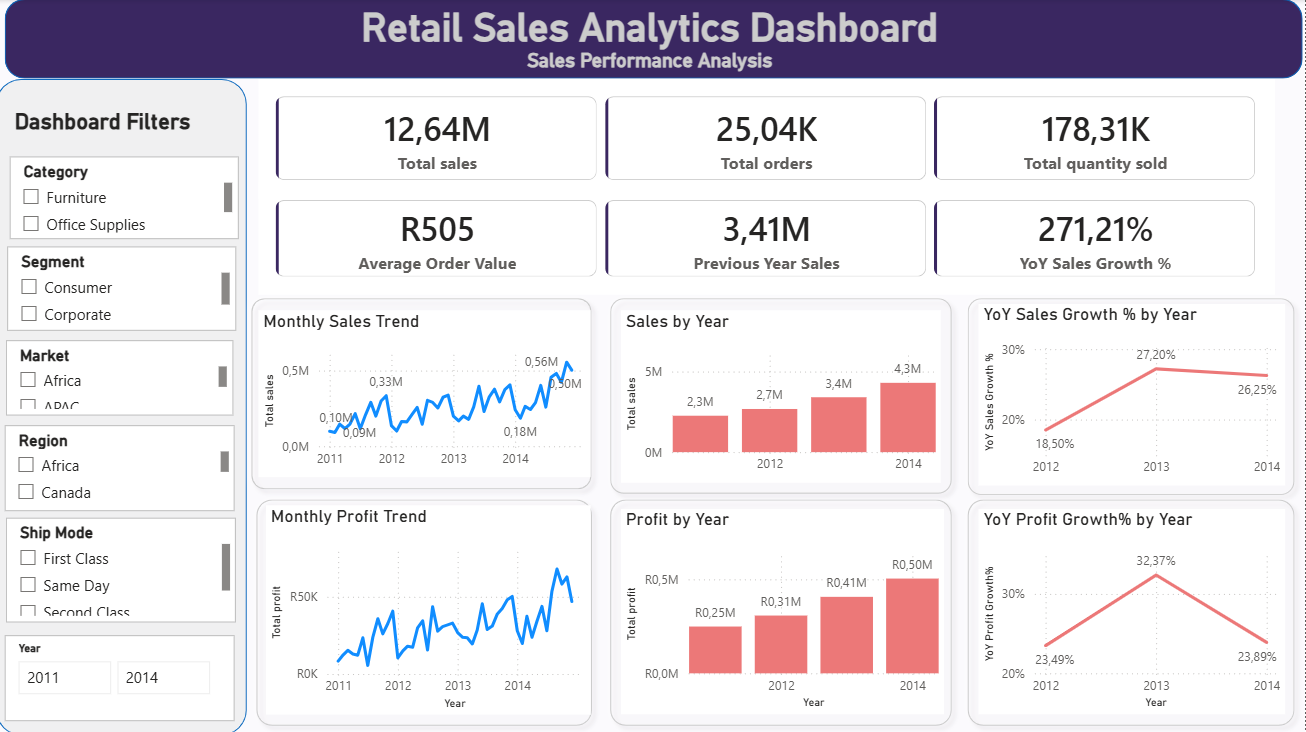

Layout of this report page (visuals, bound fields, positions):
{"tool":"powerbi","page":{"name":"Sales Perfomance","canvas":[1280,720],"ordinal":1},"visuals":[{"type":"shape","box":[8.7,0,1269.6,77.9],"z":0},{"type":"textbox","box":[10.1,0,1259.5,93.8],"z":1000},{"type":"shape","box":[0,77.9,245.3,642],"z":2000},{"type":"slicer","fields":{"Values":["superstore.category"]},"box":[13,154.4,223.6,80.8],"z":3000},{"type":"cardVisual","fields":{"Data":["superstore.Total sales","superstore.Total orders","superstore.Total quantity sold"]},"box":[256.8,77.9,994.1,116.9],"z":4000},{"type":"slicer","fields":{"Values":["superstore.segment"]},"box":[11.5,242.4,223.6,82.2],"z":5000},{"type":"slicer","fields":{"Values":["superstore.market"]},"box":[10.1,333.3,222.2,73.6],"z":6000},{"type":"slicer","fields":{"Values":["superstore.region"]},"box":[8.7,417,225.1,83.7],"z":7000},{"type":"slicer","fields":{"Values":["superstore.ship_mode"]},"box":[10.1,507.9,225.1,102.4],"z":8000},{"type":"slicer","fields":{"Values":["superstore.year"]},"box":[8.7,621.8,225.1,83.7],"z":9000},{"type":"textbox","box":[13,102.4,223.6,50.5],"z":10000},{"type":"shape","box":[240.9,284.2,350.6,204.9],"z":11000},{"type":"shape","box":[245.3,480.4,346.3,239.5],"z":12000},{"type":"shape","box":[591.5,284.2,352,209.2],"z":13000},{"type":"shape","box":[591.5,480.4,352,239.5],"z":14000},{"type":"shape","box":[942.1,284.2,337.6,210.6],"z":15000},{"type":"shape","box":[942.1,480.4,337.6,239.5],"z":16000},{"type":"lineChart","title":"Monthly Sales Trend","fields":{"Category":["superstore.Order Date.Variation.Date Hierarchy.Year","superstore.Order Date.Variation.Date Hierarchy.Month"],"Y":["superstore.Total sales"]},"box":[256.8,304.4,324.6,163],"z":17000},{"type":"lineChart","title":"Monthly Profit Trend","fields":{"Category":["superstore.Order Date.Variation.Date Hierarchy.Year","superstore.Order Date.Variation.Date Hierarchy.Month"],"Y":["superstore.Total profit"]},"box":[264,494.9,317.4,204.9],"z":18000},{"type":"clusteredColumnChart","title":"Sales by Year","fields":{"Category":["superstore.Order Date.Variation.Date Hierarchy.Year"],"Y":["superstore.Total sales"]},"box":[611.7,304.4,313.1,168.8],"z":19000},{"type":"clusteredColumnChart","title":"Profit by Year","fields":{"Category":["superstore.Order Date.Variation.Date Hierarchy.Year"],"Y":["superstore.Total profit"]},"box":[611.7,499.2,316,200.5],"z":20000},{"type":"lineChart","fields":{"Category":["superstore.Year"],"Y":["superstore.YoY Sales Growth %"]},"box":[960.9,298.7,300.1,177.5],"z":21000},{"type":"lineChart","fields":{"Category":["superstore.Year"],"Y":["superstore.YoY Profit Growth%"]},"box":[960.9,499.2,300.1,200.5],"z":22000},{"type":"cardVisual","fields":{"Data":["superstore.Average Order Value","superstore.Previous Year Sales","superstore.YoY Sales Growth %"]},"box":[256.8,180.3,994.1,109.6],"z":23000}]}

Visuals, with their boxes in screenshot pixels (x1, y1, x2, y2), scaled from the page's 1280x720 canvas onto the 1306x732 screenshot:
shape: bbox=[9, 0, 1304, 79]
textbox: bbox=[10, 0, 1295, 95]
shape: bbox=[0, 79, 250, 731]
slicer - superstore.category: bbox=[13, 157, 241, 239]
cardVisual - superstore.Total sales x superstore.Total orders: bbox=[262, 79, 1276, 198]
slicer - superstore.segment: bbox=[12, 246, 240, 330]
slicer - superstore.market: bbox=[10, 339, 237, 414]
slicer - superstore.region: bbox=[9, 424, 239, 509]
slicer - superstore.ship_mode: bbox=[10, 516, 240, 620]
slicer - superstore.year: bbox=[9, 632, 239, 717]
textbox: bbox=[13, 104, 241, 155]
shape: bbox=[246, 289, 604, 497]
shape: bbox=[250, 488, 604, 731]
shape: bbox=[604, 289, 963, 502]
shape: bbox=[604, 488, 963, 731]
shape: bbox=[961, 289, 1305, 503]
shape: bbox=[961, 488, 1305, 731]
"Monthly Sales Trend" lineChart: bbox=[262, 309, 593, 475]
"Monthly Profit Trend" lineChart: bbox=[269, 503, 593, 711]
"Sales by Year" clusteredColumnChart: bbox=[624, 309, 944, 481]
"Profit by Year" clusteredColumnChart: bbox=[624, 508, 947, 711]
lineChart - superstore.Year x superstore.YoY Sales Growth %: bbox=[980, 304, 1287, 484]
lineChart - superstore.Year x superstore.YoY Profit Growth%: bbox=[980, 508, 1287, 711]
cardVisual - superstore.Average Order Value x superstore.Previous Year Sales: bbox=[262, 183, 1276, 295]
